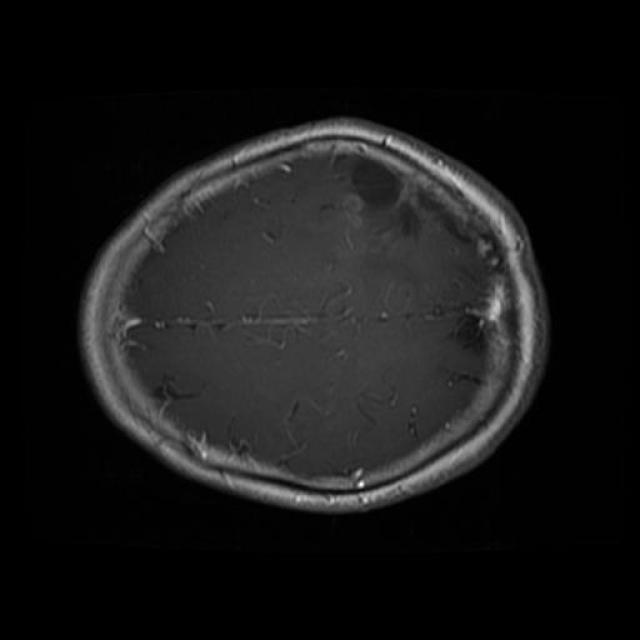Glioma: (336, 154, 438, 235)
